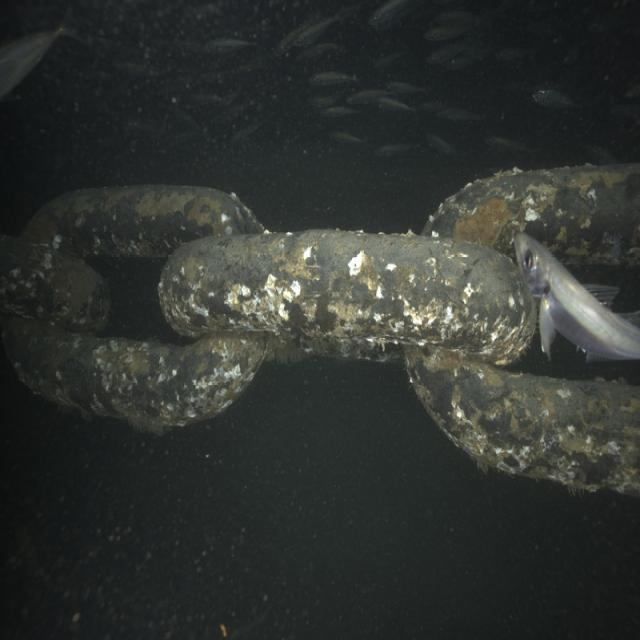ChainLink: (159, 231, 535, 364), (405, 349, 640, 497), (2, 316, 268, 432), (422, 164, 640, 266), (22, 185, 264, 257), (0, 235, 110, 332), (266, 335, 404, 362)
